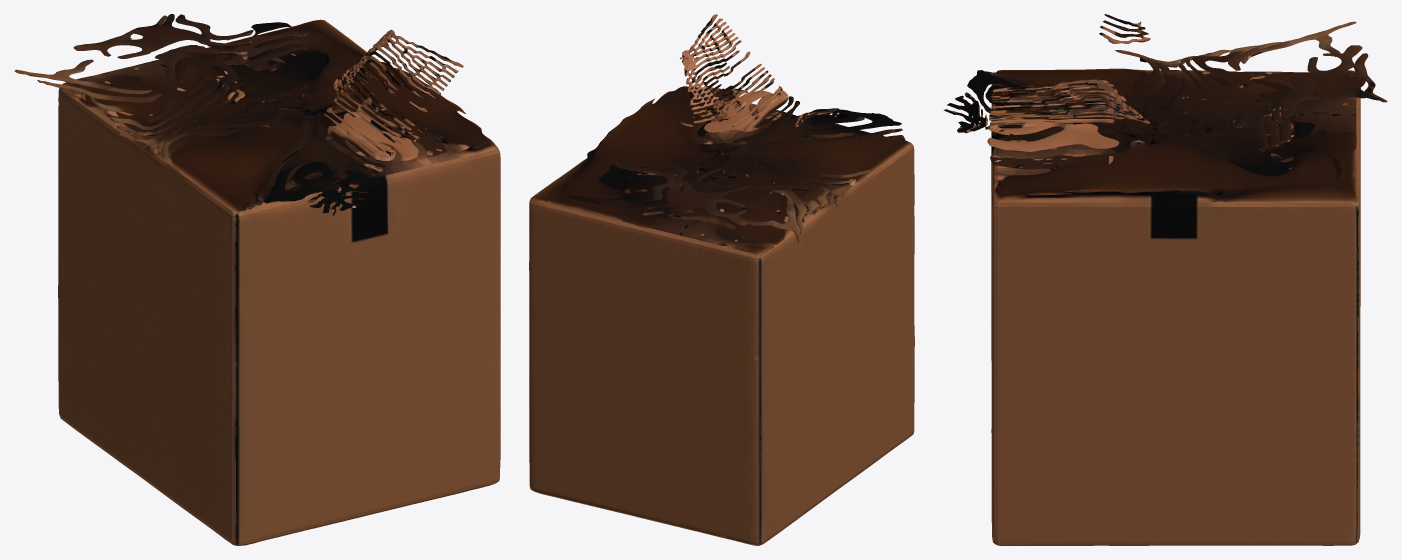
3 views of the same model, side by side, from view 1: azimuth 30°, elevation 25°; view 2: azimuth 150°, elevation 25°; view 3: azimuth 270°, elevation 25° (orthographic). The views are drawn at different scales.
Visible parts, largest first — view 1: tmpcl6tt0z5.ply; view 2: tmpcl6tt0z5.ply; view 3: tmpcl6tt0z5.ply.
Boxes of the visible parts, box(x1,y1,x2,y2) form: tmpcl6tt0z5.ply: box(14, 14, 500, 545); tmpcl6tt0z5.ply: box(529, 14, 914, 545); tmpcl6tt0z5.ply: box(943, 14, 1387, 545).
Bounding box in the file's own units: 1.46 × 1.93 × 1.75.
1 material, 1 textured.
